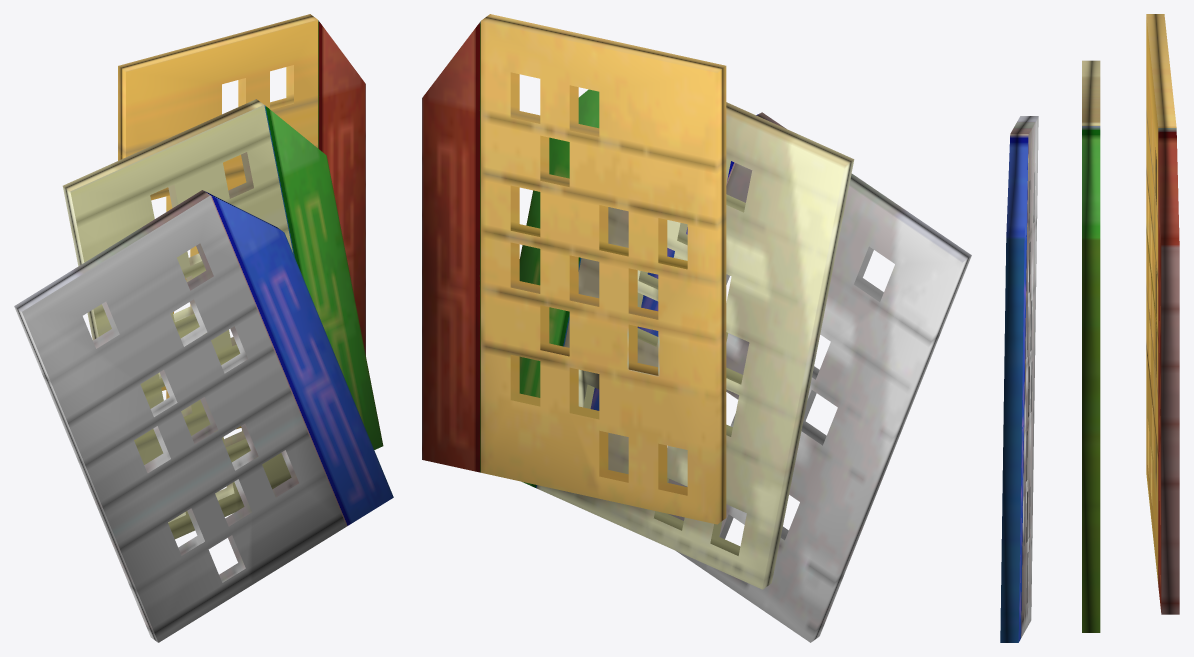
File: SOS.ICO.obj
3 views of the same model, side by side, from view 1: azimuth 30°, elevation 25°; view 2: azimuth 150°, elevation 25°; view 3: azimuth 270°, elevation 25° (orthographic). The views are drawn at different scales.
Size of the model in its own units: 3.77 by 4.68 by 1.23.
1 material, 1 textured.
